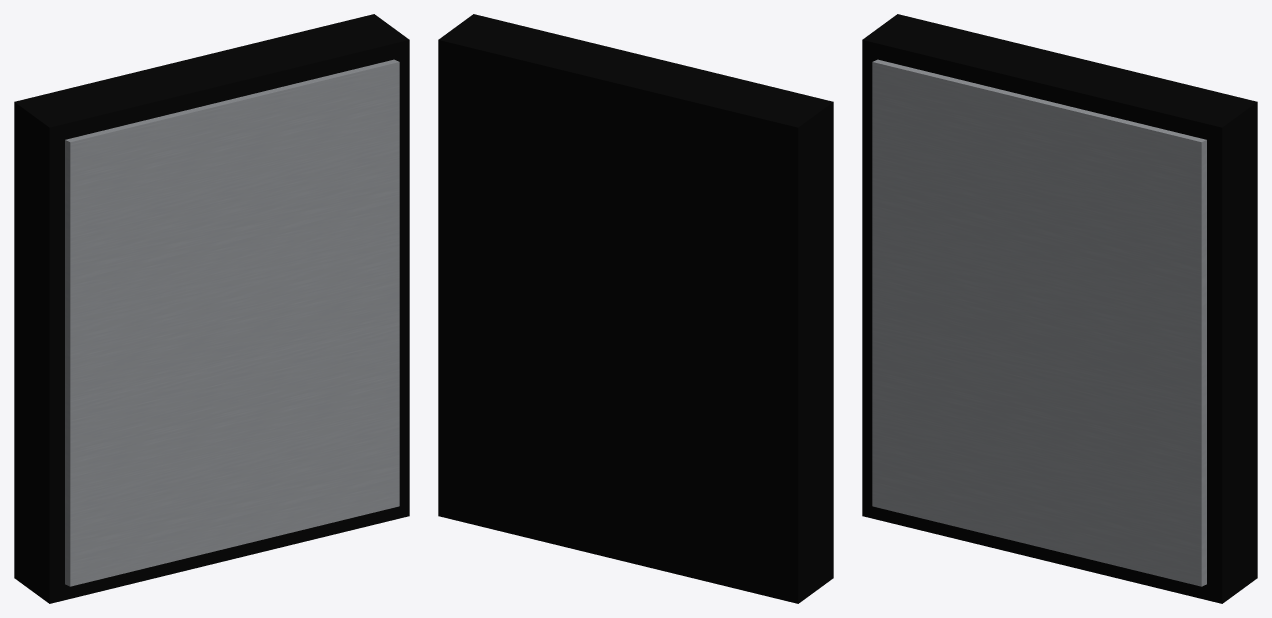
File: Panel Numeros.FBX
3 views of the same model, side by side, from view 1: azimuth 30°, elevation 25°; view 2: azimuth 150°, elevation 25°; view 3: azimuth 330°, elevation 25° (orthographic).
Parts seen in each view (by area): view 1: Box035; view 2: Box035; view 3: Box035.
Boxes of the visible parts, x1,y1,x2,y2 form: Box035: (14, 14, 409, 603); Box035: (438, 14, 833, 603); Box035: (862, 14, 1257, 603).
Bounding box in the file's own units: 7.98 × 10.09 × 1.56.
1 material, 1 textured.
